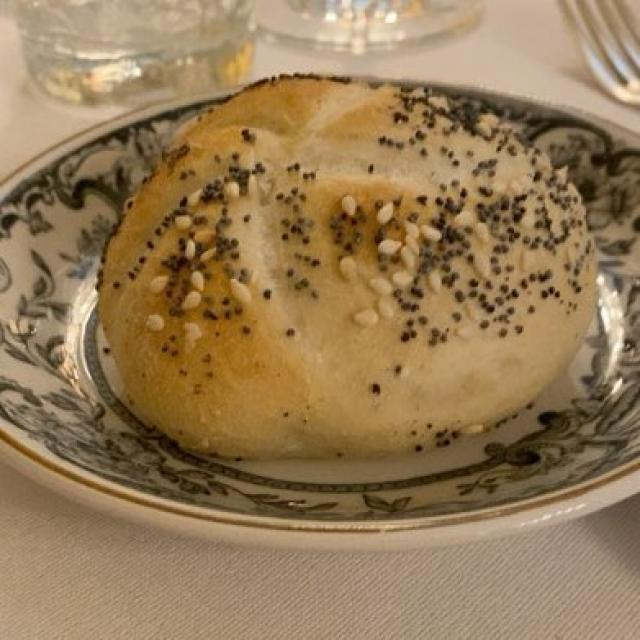bread: (101, 78, 588, 460)
